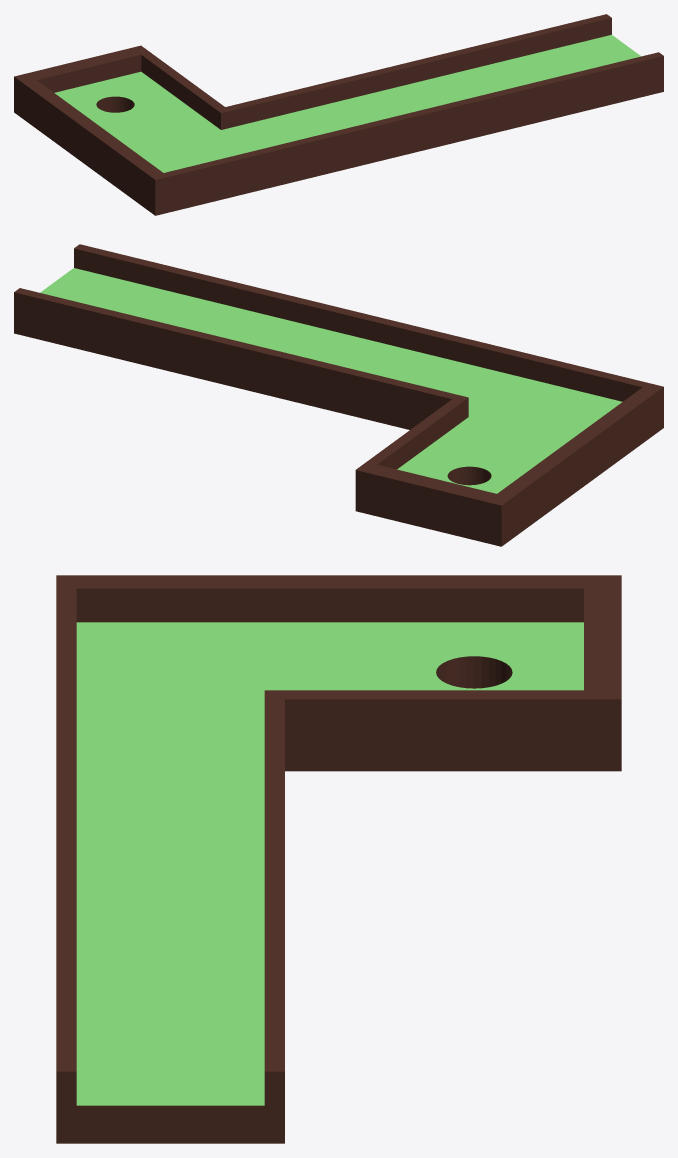
The model's file is Golf Pit 2.fbx.
3 views of the same model, one above another, from view 1: azimuth 30°, elevation 25°; view 2: azimuth 150°, elevation 25°; view 3: azimuth 270°, elevation 25° (orthographic). The views are drawn at different scales.
Visible parts, largest first — view 1: Cube; view 2: Cube; view 3: Cube.
Part boxes in pixels (x1,y1,x2,y2): Cube: [14, 14, 663, 215]; Cube: [14, 244, 663, 546]; Cube: [56, 575, 621, 1143].
Size of the model in its own units: 597 by 40.24 by 287.
